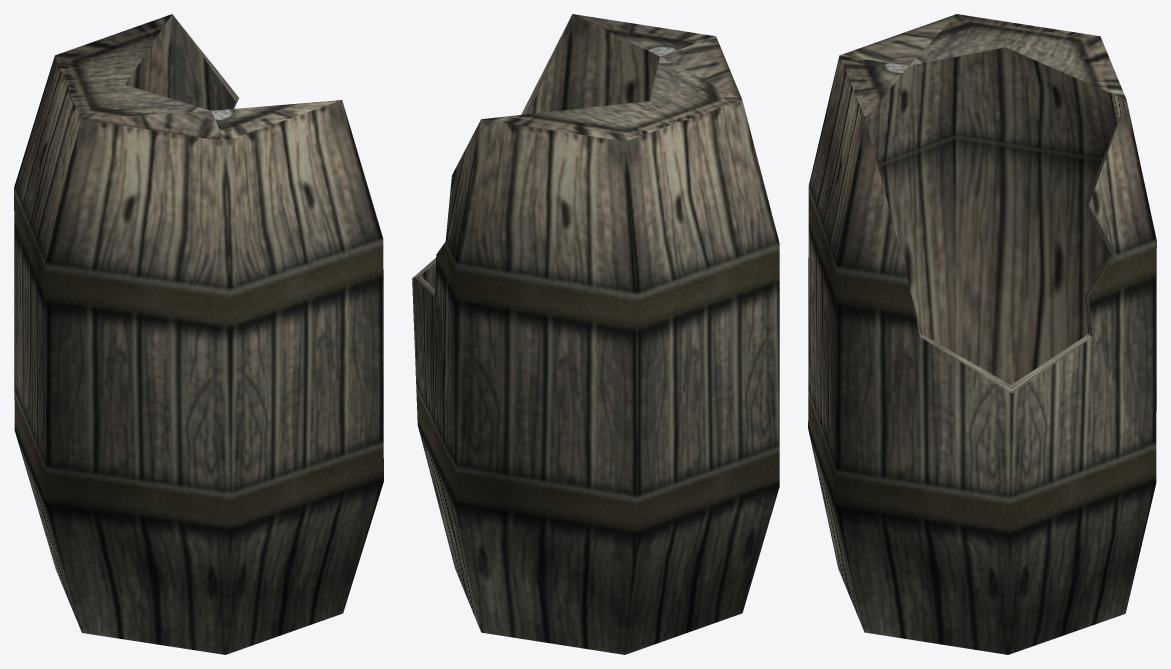
File: pir_m_prp_cnt_barrelB_destroyed.fbx
The picture shows the model from 3 angles, left to right: view 1: azimuth 30°, elevation 25°; view 2: azimuth 150°, elevation 25°; view 3: azimuth 270°, elevation 25°; orthographic projection.
Visible parts, largest first — view 1: lod_high; view 2: lod_high; view 3: lod_high.
Boxes of the visible parts, x1,y1,x2,y2 form: lod_high: (14, 14, 383, 654); lod_high: (412, 14, 779, 654); lod_high: (808, 14, 1156, 654).
Bounding box in the file's own units: 447 × 648 × 399.
1 material, 1 textured.
